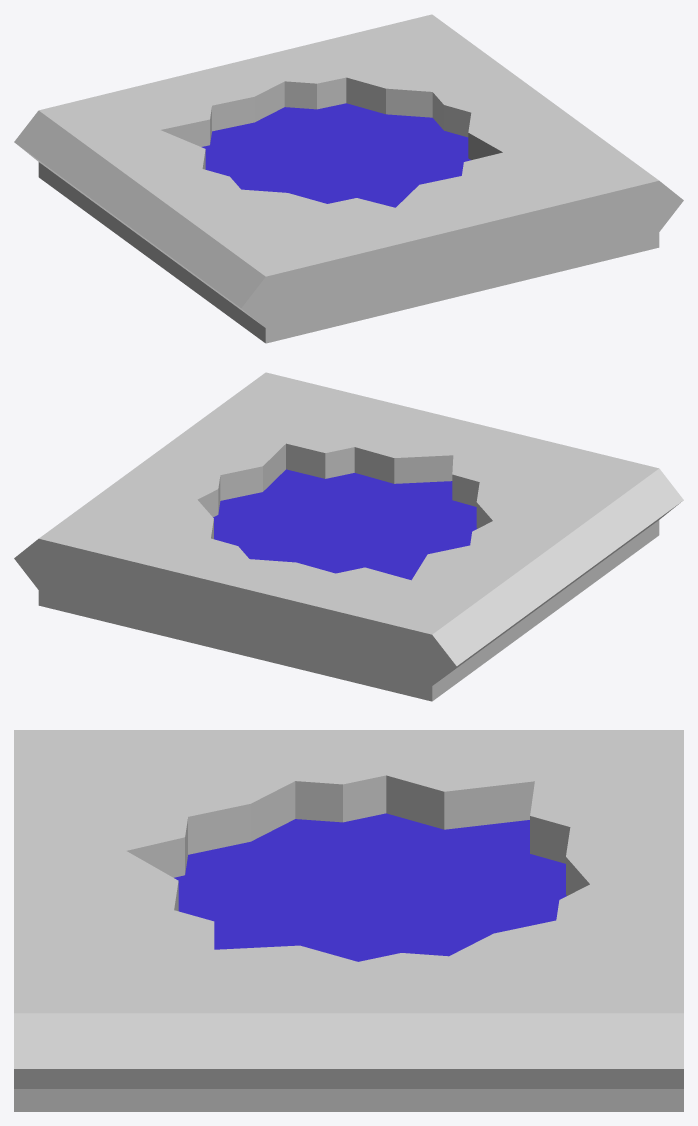
The model's file is sugarpacket.model.fbx.
3 renders of one model, top to bottom at view 1: azimuth 30°, elevation 25°; view 2: azimuth 150°, elevation 25°; view 3: azimuth 270°, elevation 25°, orthographic. The views are drawn at different scales.
Parts seen in each view (by area): view 1: wall_hole_238, porch_floor_center_237; view 2: wall_hole_238, porch_floor_center_237; view 3: wall_hole_238, porch_floor_center_237.
Boxes of the visible parts, x1,y1,x2,y2 form: wall_hole_238: (14, 14, 683, 327); porch_floor_center_237: (38, 103, 659, 343); wall_hole_238: (14, 372, 683, 685); porch_floor_center_237: (38, 469, 659, 701); wall_hole_238: (14, 730, 683, 1088); porch_floor_center_237: (14, 813, 683, 1111).
Size of the model in its own units: 11.25 by 1.62 by 10.
